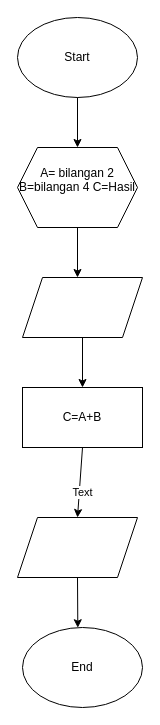
Some shapes in this 160 by 725 pixel diagram are drawn without their labels. The centre of each missing label's shape, as x and y in pixels:
Input A , Input B: (82,307)
Output C: (77,547)
